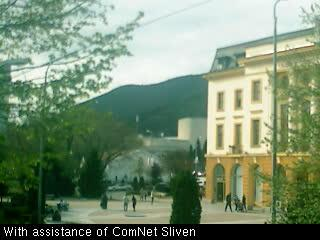person: (224, 192, 233, 214), (233, 193, 241, 211), (122, 194, 129, 211), (99, 194, 107, 208), (131, 196, 138, 211), (243, 194, 248, 213), (151, 191, 156, 204), (145, 193, 148, 201)
